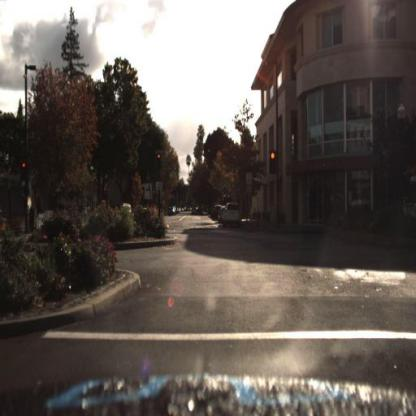car: (221, 203, 242, 231)
pedestrian: (389, 192, 399, 228)
trafficLight: (19, 153, 30, 181)
trafficLight-Red: (153, 143, 165, 170), (268, 150, 278, 179), (19, 163, 26, 186)
trafficLight-RedLeft: (156, 150, 164, 175)
